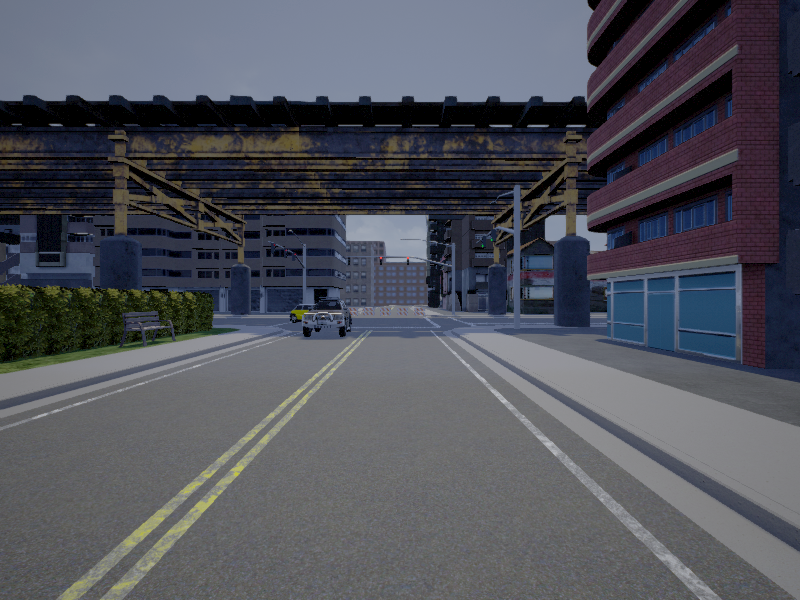Benign: (305, 299, 353, 337), (289, 304, 318, 322)
